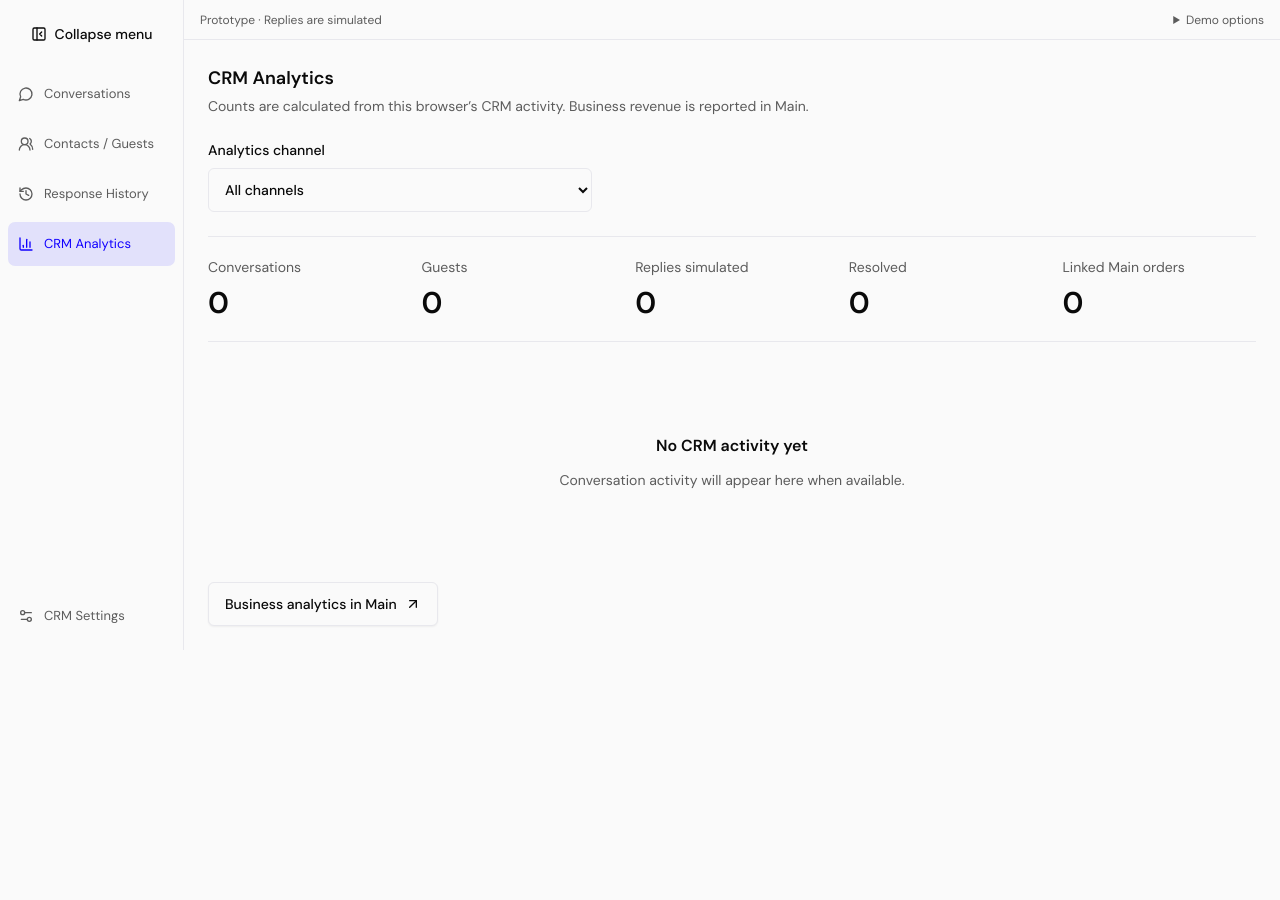
it: Prime CRM workspace flows › shows computed empty analytics and retains settings in no-data mode
Expected: the heading "No CRM activity yet" is shown, [656,435,808,456]
Click the link "CRM Settings".
click(71, 616)  # box [18,607,125,624]
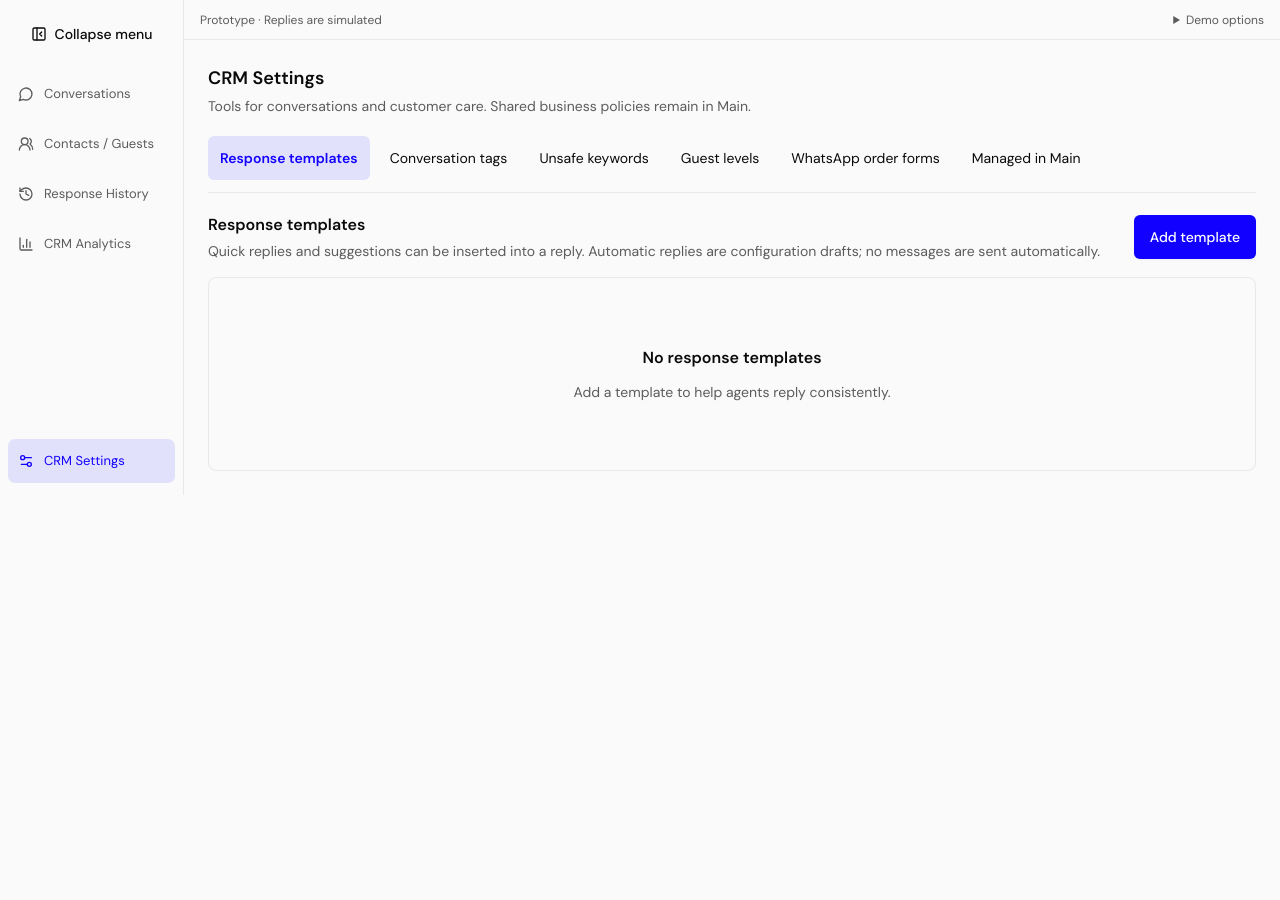
Expected: the button "Add template" is enabled, [1134,215,1256,259]
